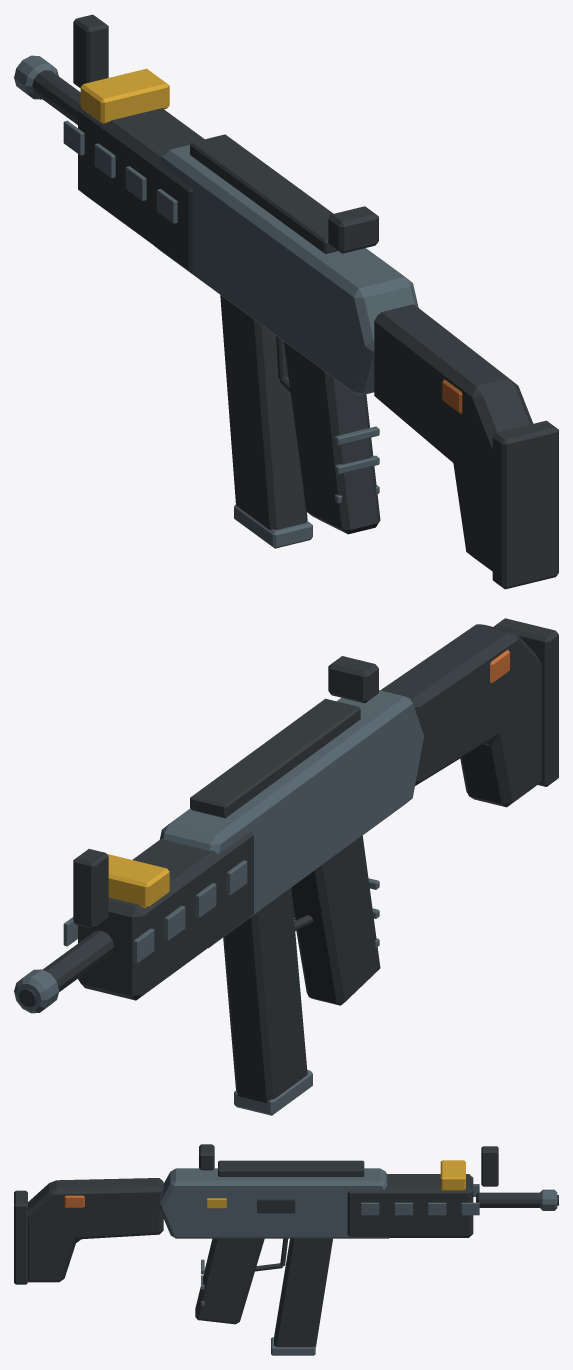
3 renders of one model, top to bottom at view 1: azimuth 30°, elevation 25°; view 2: azimuth 150°, elevation 25°; view 3: azimuth 270°, elevation 25°, orthographic. The views are drawn at different scales.
Visible parts, largest first — view 1: BH_AR_01_RenderMesh; view 2: BH_AR_01_RenderMesh; view 3: BH_AR_01_RenderMesh.
Part boxes in pixels (<box>): BH_AR_01_RenderMesh: <box>14,14,558,589</box>; BH_AR_01_RenderMesh: <box>14,618,558,1115</box>; BH_AR_01_RenderMesh: <box>14,1144,558,1355</box>.
Size of the model in its own units: 0.083 by 0.4005 by 0.977.
